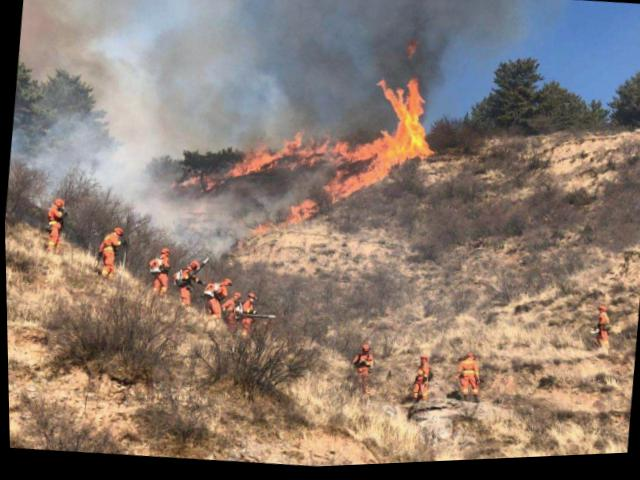fire: (179, 51, 444, 265)
